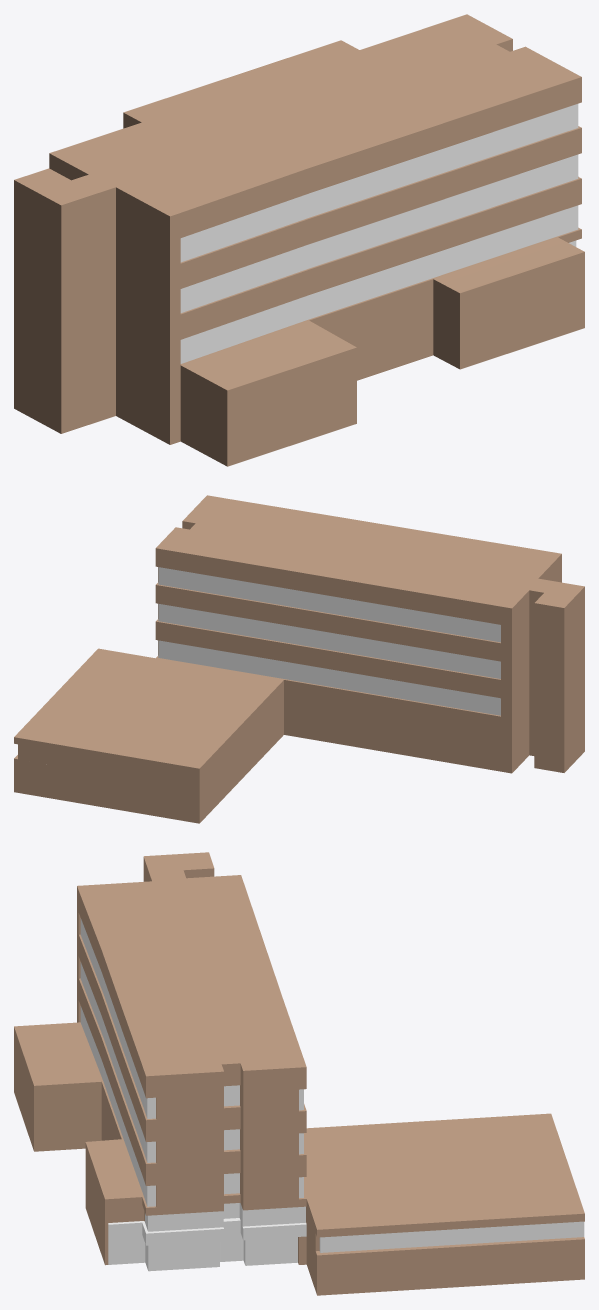
Rendered from Old_maths_building 1.fbx.
3 renders of one model, top to bottom at view 1: azimuth 30°, elevation 25°; view 2: azimuth 150°, elevation 25°; view 3: azimuth 270°, elevation 25°, orthographic. The views are drawn at different scales.
Visible parts, largest first — view 1: polySurface20; view 2: polySurface20; view 3: polySurface20.
Boxes of the visible parts, box(x1,y1,x2,y2) form: polySurface20: box(14, 14, 584, 466); polySurface20: box(14, 495, 584, 823); polySurface20: box(14, 852, 584, 1295).
Size of the model in its own units: 93.42 by 35.09 by 91.69.
